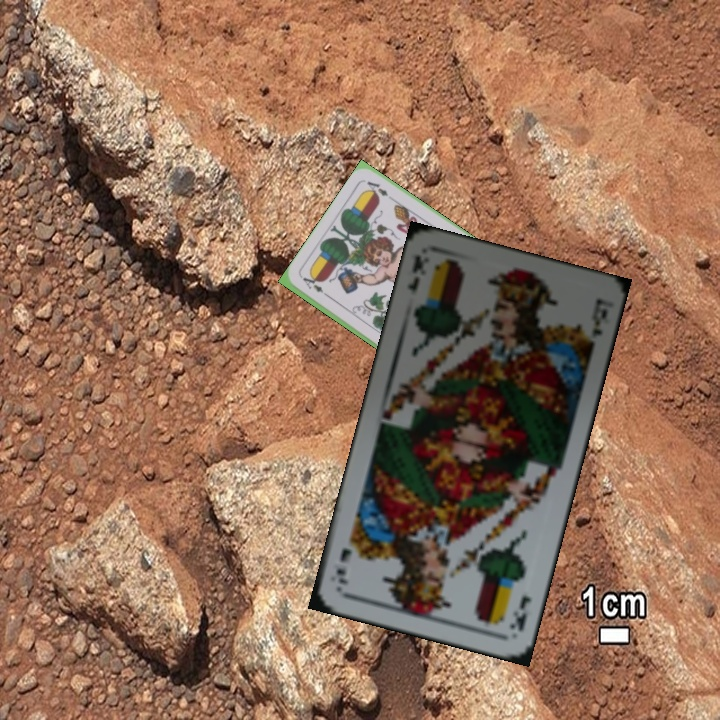EA: (299, 273, 334, 301)
EK: (505, 590, 535, 635), (402, 251, 429, 298)
